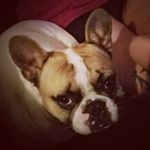puppy: (2, 5, 129, 139)
